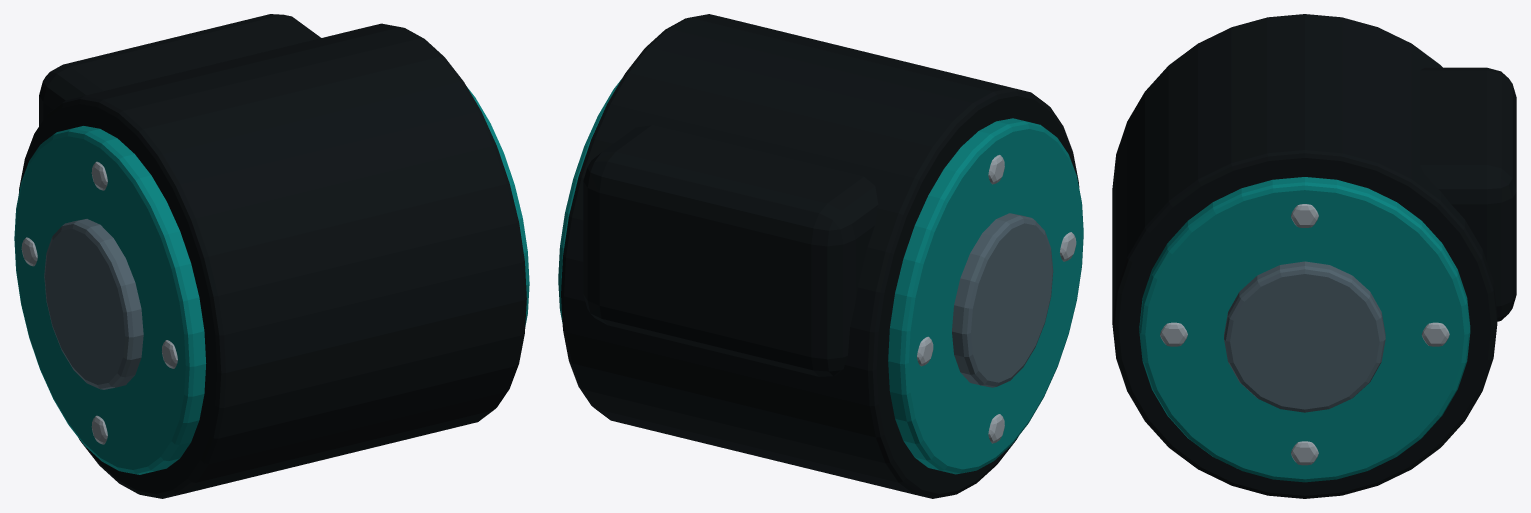
The model's file is modular_arm_motor.obj.
3 renders of one model, left to right at view 1: azimuth 30°, elevation 25°; view 2: azimuth 150°, elevation 25°; view 3: azimuth 270°, elevation 25°, orthographic. The views are drawn at different scales.
Visible parts, largest first — view 1: modular_arm_motor; view 2: modular_arm_motor; view 3: modular_arm_motor.
Part boxes in pixels (box(x1,y1,x2,y2)): modular_arm_motor: box(14, 14, 529, 498); modular_arm_motor: box(558, 14, 1083, 498); modular_arm_motor: box(1112, 14, 1516, 498).
Bounding box in the file's own units: 0.0545 × 0.052 × 0.0546.
